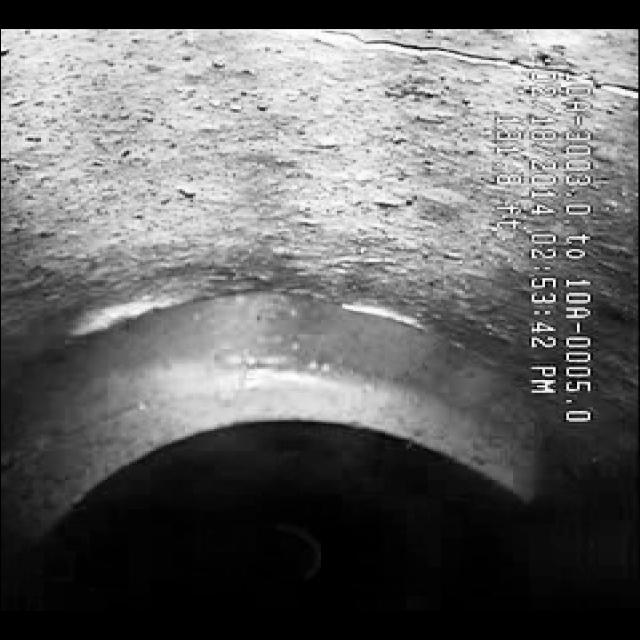Crack: (263, 38, 639, 121)
